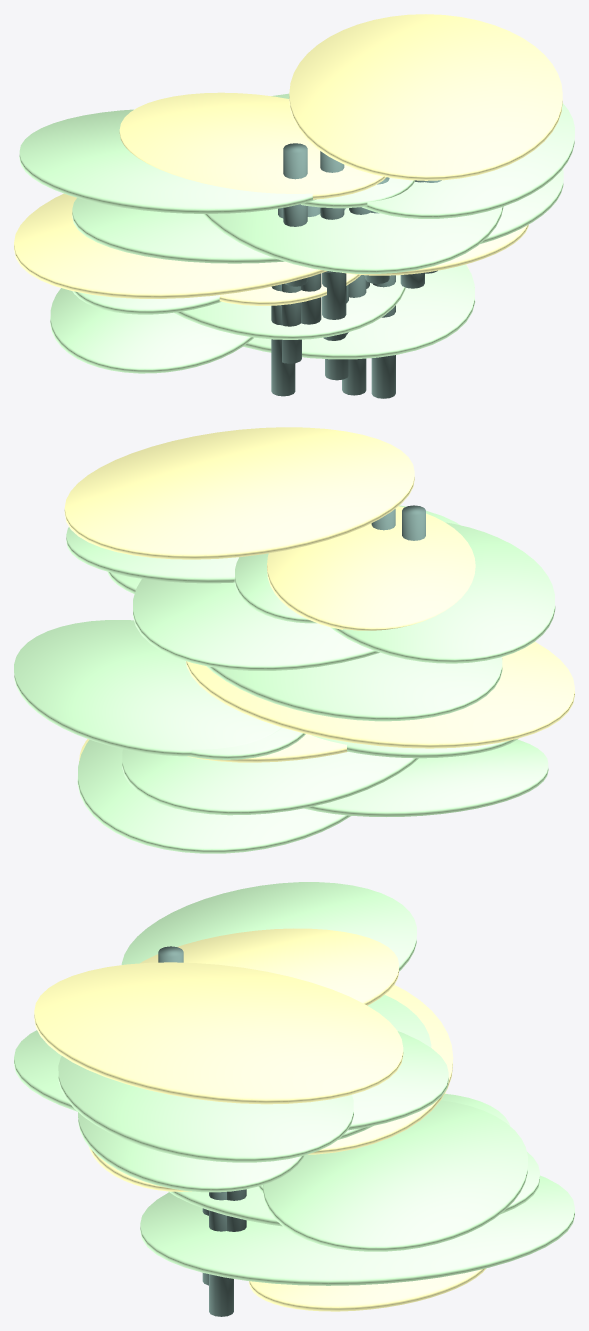
File: coral-plate-green-01.glb
The picture shows the model from 3 angles, top to bottom: view 1: azimuth 30°, elevation 25°; view 2: azimuth 150°, elevation 25°; view 3: azimuth 270°, elevation 25°; orthographic projection. The views are drawn at different scales.
Parts seen in each view (by area): view 1: coral_plate_green_01_plate_03, coral_plate_green_01_plate_06, coral_plate_green_01_plate_07, coral_plate_green_01_plate_09, coral_plate_green_01_plate_04, coral_plate_green_01_plate_11, coral_plate_green_01_plate_14, coral_plate_green_01_plate_02, coral_plate_green_01_plate_08, coral_plate_green_01_plate_13, coral_plate_green_01_plate_01, coral_plate_green_01_plate_10 (+12 smaller); view 2: coral_plate_green_01_plate_03, coral_plate_green_01_plate_17, coral_plate_green_01_plate_06, coral_plate_green_01_plate_09, coral_plate_green_01_plate_04, coral_plate_green_01_plate_07, coral_plate_green_01_plate_13, coral_plate_green_01_plate_08, coral_plate_green_01_plate_14, coral_plate_green_01_plate_11, coral_plate_green_01_plate_02, coral_plate_green_01_plate_05 (+4 smaller); view 3: coral_plate_green_01_plate_03, coral_plate_green_01_plate_17, coral_plate_green_01_plate_14, coral_plate_green_01_plate_02, coral_plate_green_01_plate_07, coral_plate_green_01_plate_06, coral_plate_green_01_plate_04, coral_plate_green_01_plate_01, coral_plate_green_01_plate_15, coral_plate_green_01_plate_09, coral_plate_green_01_plate_13, coral_plate_green_01_plate_08 (+3 smaller).
Boxes of the visible parts, bbox=[...] form: coral_plate_green_01_plate_03: bbox=[289, 14, 562, 180]; coral_plate_green_01_plate_06: bbox=[119, 92, 386, 199]; coral_plate_green_01_plate_07: bbox=[19, 109, 316, 213]; coral_plate_green_01_plate_09: bbox=[14, 193, 327, 298]; coral_plate_green_01_plate_04: bbox=[202, 93, 503, 273]; coral_plate_green_01_plate_11: bbox=[50, 288, 253, 373]; coral_plate_green_01_plate_14: bbox=[243, 264, 475, 359]; coral_plate_green_01_plate_02: bbox=[361, 103, 574, 218]; coral_plate_green_01_plate_08: bbox=[72, 197, 284, 263]; coral_plate_green_01_plate_13: bbox=[174, 275, 405, 339]; coral_plate_green_01_plate_01: bbox=[480, 169, 563, 243]; coral_plate_green_01_plate_10: bbox=[72, 291, 221, 314]; coral_plate_green_01_plate_03: bbox=[64, 427, 414, 559]; coral_plate_green_01_plate_17: bbox=[14, 620, 281, 756]; coral_plate_green_01_plate_06: bbox=[267, 506, 475, 630]; coral_plate_green_01_plate_09: bbox=[185, 642, 574, 748]; coral_plate_green_01_plate_04: bbox=[132, 505, 459, 670]; coral_plate_green_01_plate_07: bbox=[331, 522, 555, 663]; coral_plate_green_01_plate_13: bbox=[122, 749, 418, 815]; coral_plate_green_01_plate_08: bbox=[206, 652, 502, 721]; coral_plate_green_01_plate_14: bbox=[77, 739, 351, 853]; coral_plate_green_01_plate_11: bbox=[304, 739, 548, 816]; coral_plate_green_01_plate_02: bbox=[66, 527, 238, 583]; coral_plate_green_01_plate_05: bbox=[234, 553, 316, 623]; coral_plate_green_01_plate_03: bbox=[34, 962, 403, 1104]; coral_plate_green_01_plate_17: bbox=[263, 1100, 527, 1251]; coral_plate_green_01_plate_14: bbox=[140, 1175, 574, 1285]; coral_plate_green_01_plate_02: bbox=[58, 1056, 353, 1162]; coral_plate_green_01_plate_07: bbox=[121, 882, 416, 971]; coral_plate_green_01_plate_06: bbox=[140, 928, 398, 1005]; coral_plate_green_01_plate_04: bbox=[14, 1030, 448, 1130]; coral_plate_green_01_plate_01: bbox=[78, 1112, 304, 1192]; coral_plate_green_01_plate_15: bbox=[248, 1268, 486, 1311]; coral_plate_green_01_plate_09: bbox=[308, 985, 453, 1154]; coral_plate_green_01_plate_13: bbox=[168, 1152, 539, 1226]; coral_plate_green_01_plate_08: bbox=[338, 994, 431, 1139].
Bounding box in the file's own units: 1.69 × 0.929 × 1.56.
